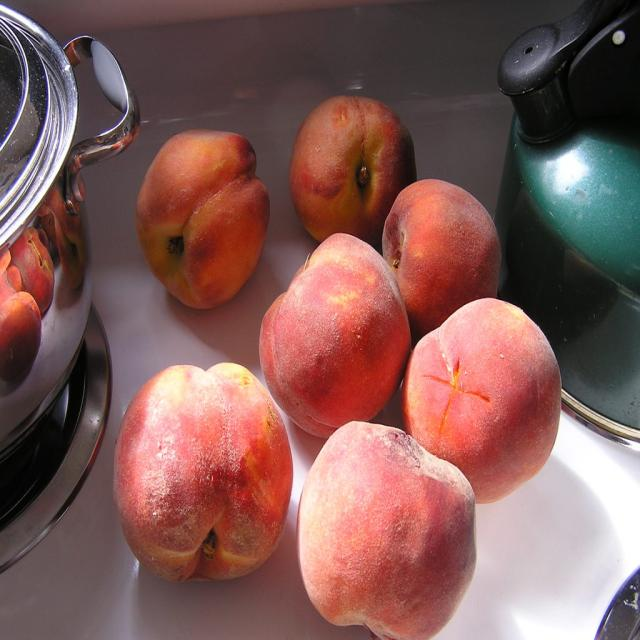Peach: (255, 99, 563, 640), (294, 420, 480, 637), (112, 365, 295, 584), (135, 129, 270, 310), (0, 262, 44, 382), (40, 184, 86, 291), (10, 222, 56, 316)
